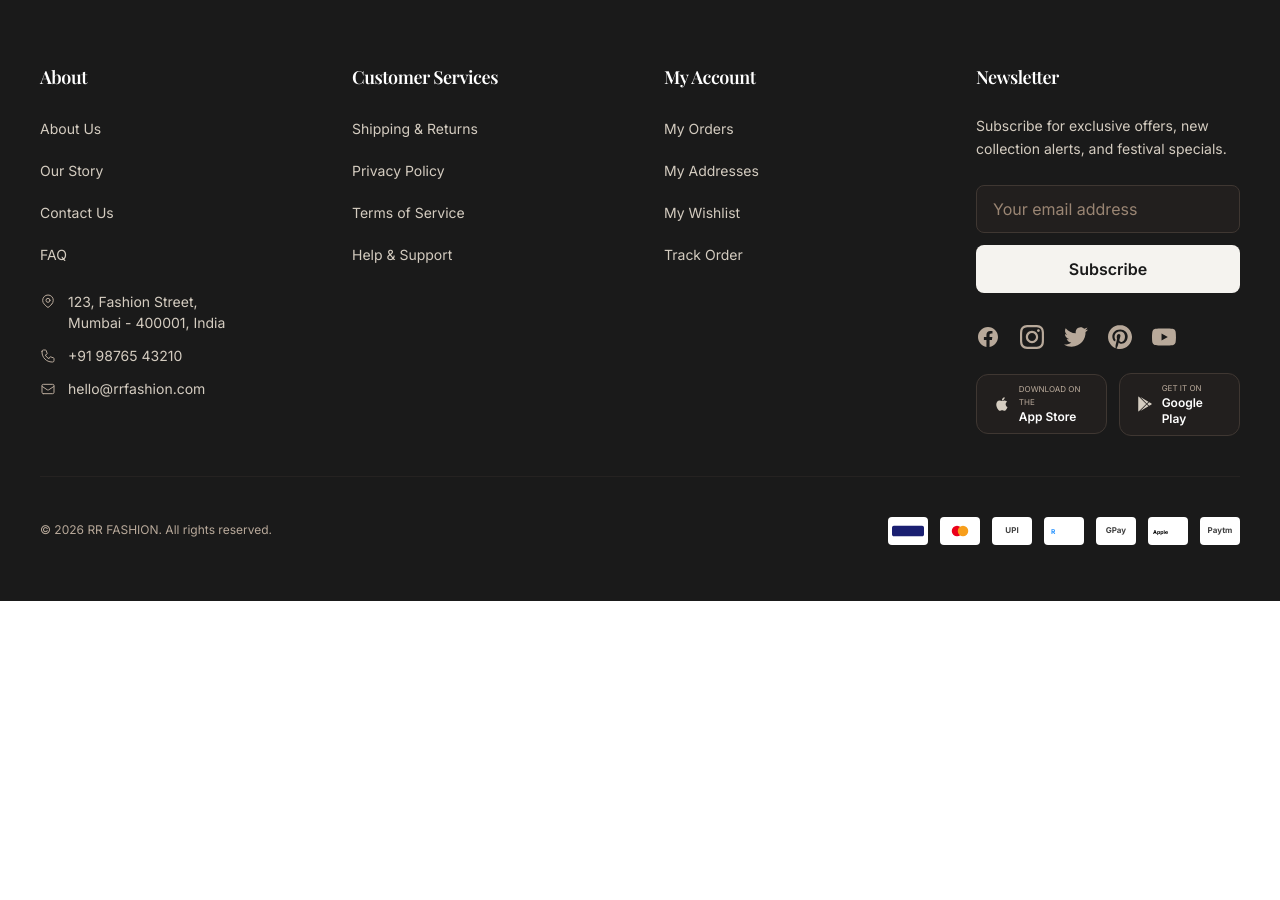
Test: Footer › handles newsletter subscription
Step 1. Type "test@example.com" into the field named "Email address for newsletter subscription" → (1108, 208), box [976,184,1240,232]
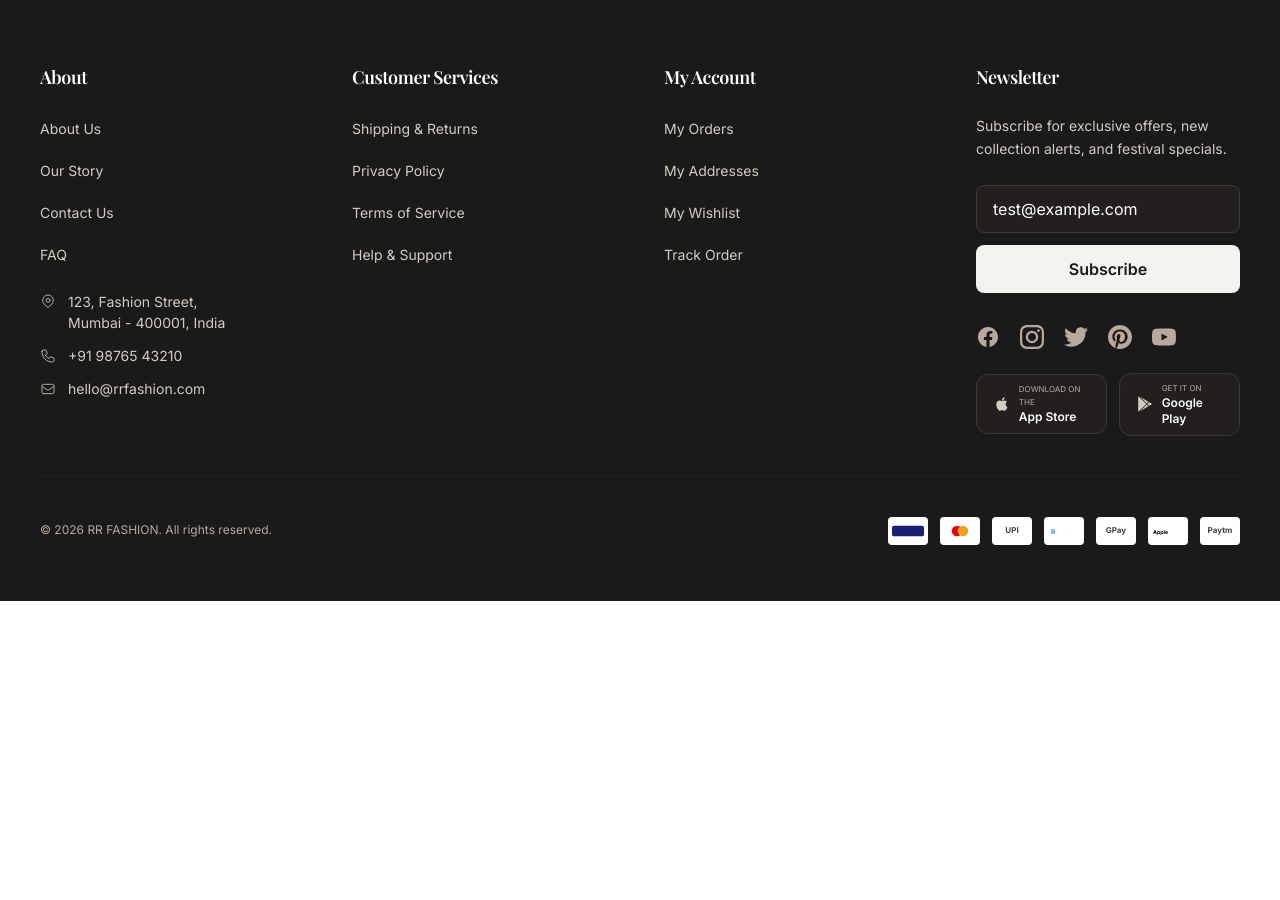
Step 2. Click the button "Subscribe" → click(1108, 268), box [976,244,1240,292]
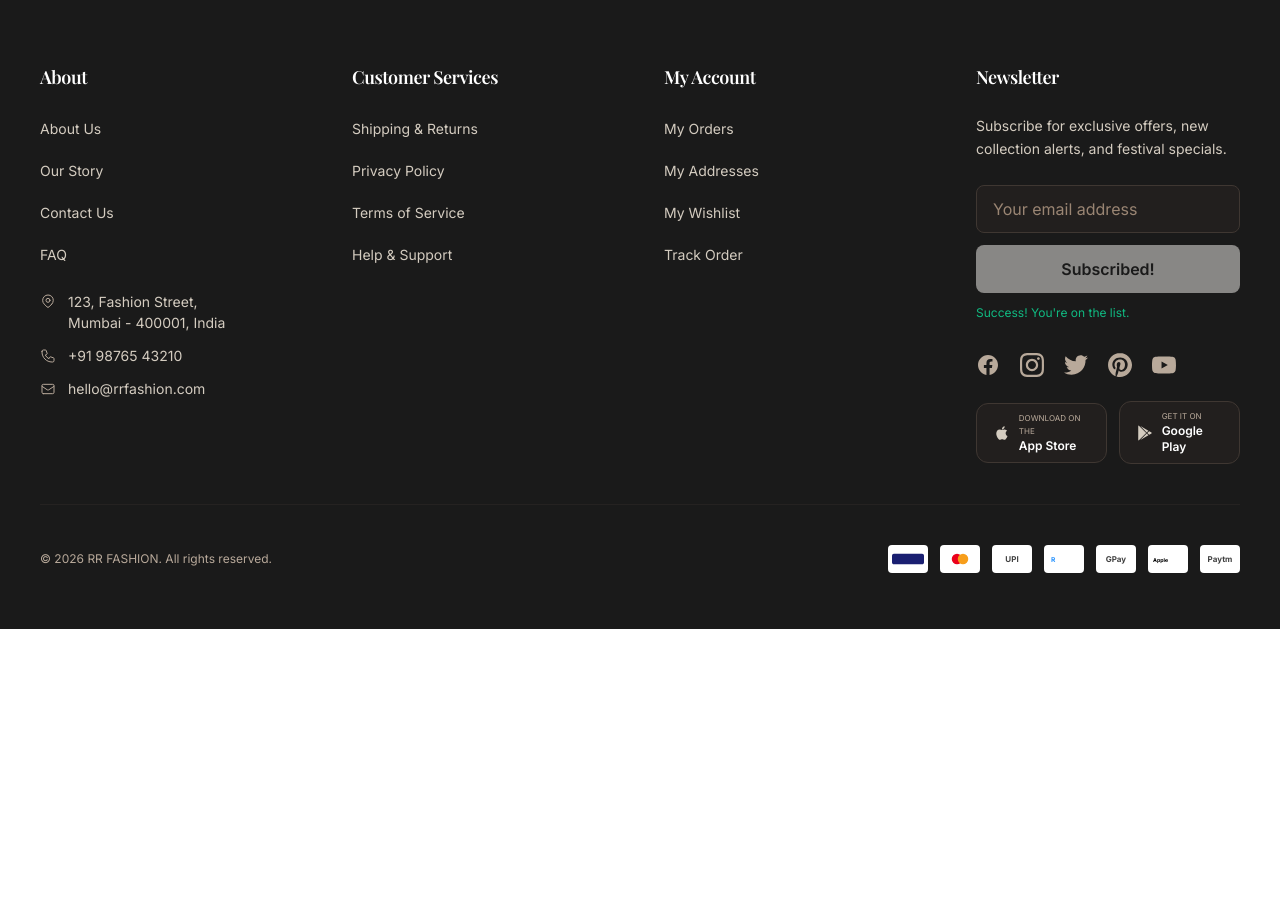
Expected: the text "Success! You're on the list." is shown, [976,304,1129,320]
